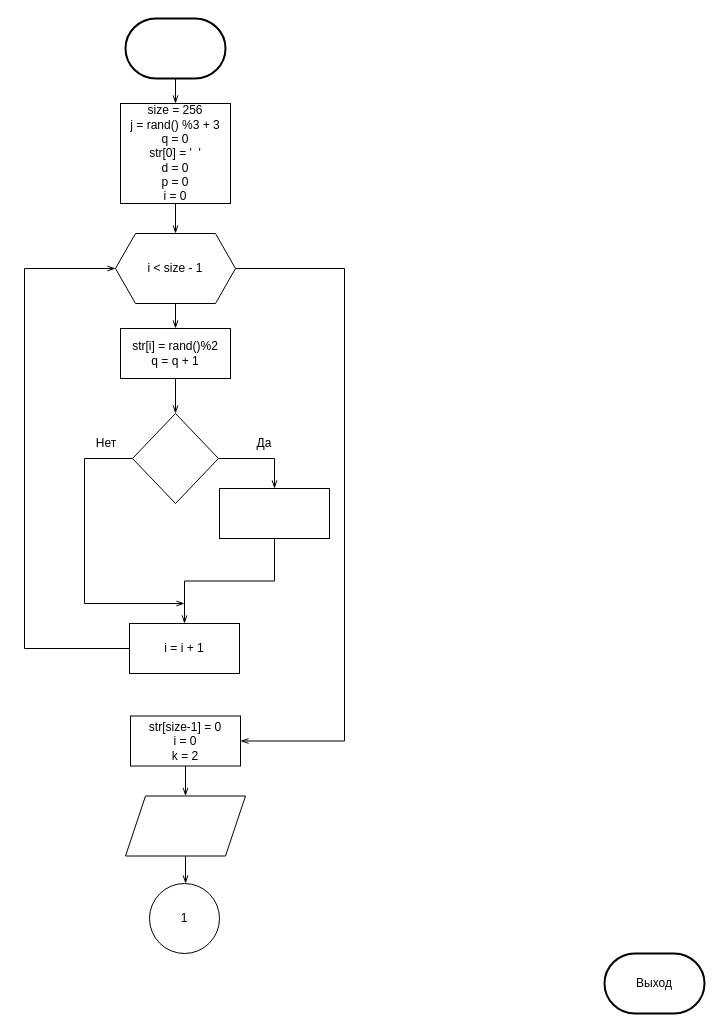
Some shapes in this 723 by 1031 pixel diagram are drawn without their labels. The shapes that lost their labels are listed below. From the top down, each one's centre as x and y in pixels, then its label:
At (x=175, y=48): "Вход".
At (x=175, y=458): "q = (j + 1)".
At (x=274, y=513): "str[i] = ' ' j = rand() %3 + 3 q = 0".
At (x=185, y=825): "Вывод: str".
